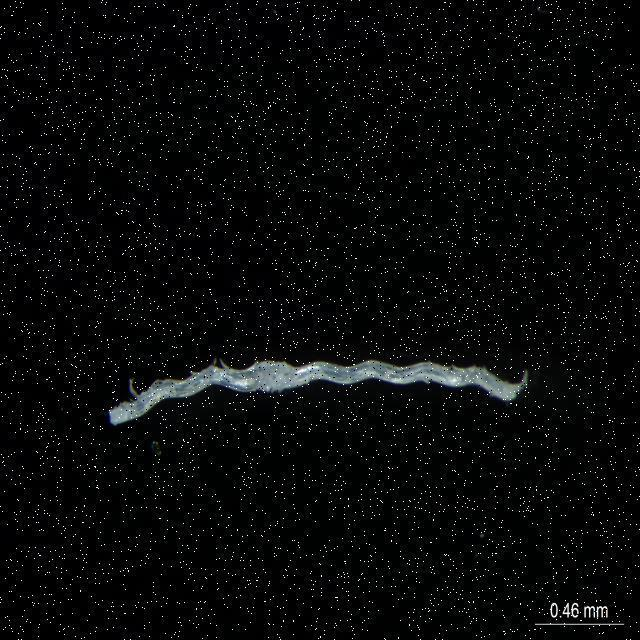fiber: (101, 364, 533, 429)
